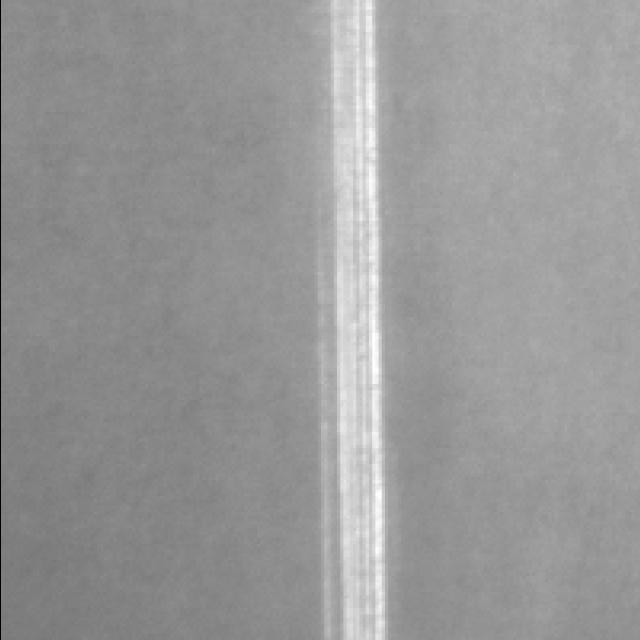scratches: (309, 0, 392, 640)
